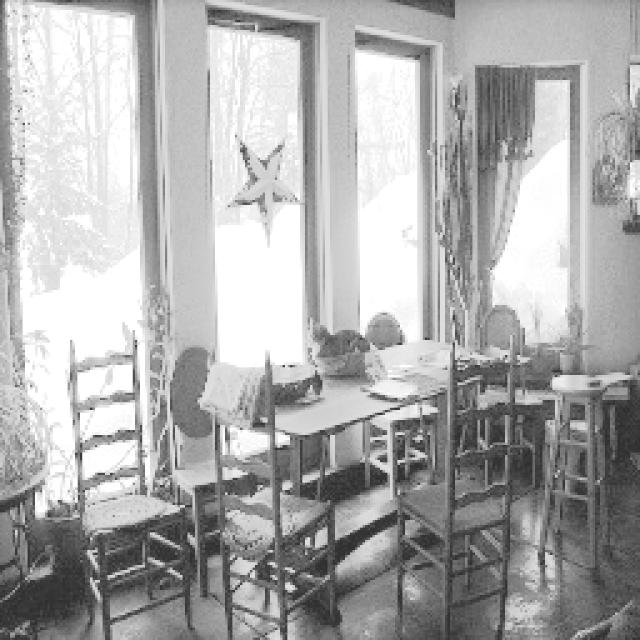cat: (299, 315, 390, 378)
